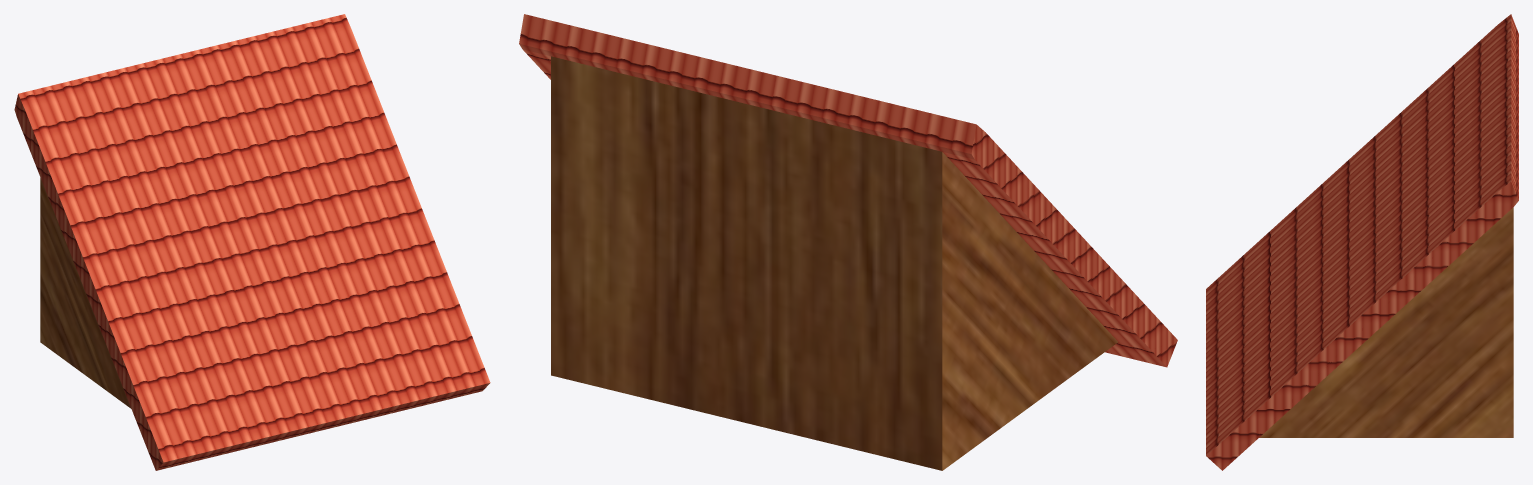
File: roof.fbx
3 views of the same model, side by side, from view 1: azimuth 30°, elevation 25°; view 2: azimuth 150°, elevation 25°; view 3: azimuth 270°, elevation 25° (orthographic). The views are drawn at different scales.
Visible parts, largest first — view 1: Cube.027, Cube.028; view 2: Cube.028, Cube.027; view 3: Cube.027, Cube.028.
Part boxes in pixels (x1,y1,x2,y2): Cube.027: (14,14,490,470); Cube.028: (40,178,131,408); Cube.028: (551,56,1117,470); Cube.027: (519,14,1177,367); Cube.027: (1206,14,1518,470); Cube.028: (1259,207,1513,437).
Bounding box in the file's own units: 297 × 240 × 234.
2 materials, 2 textured.
